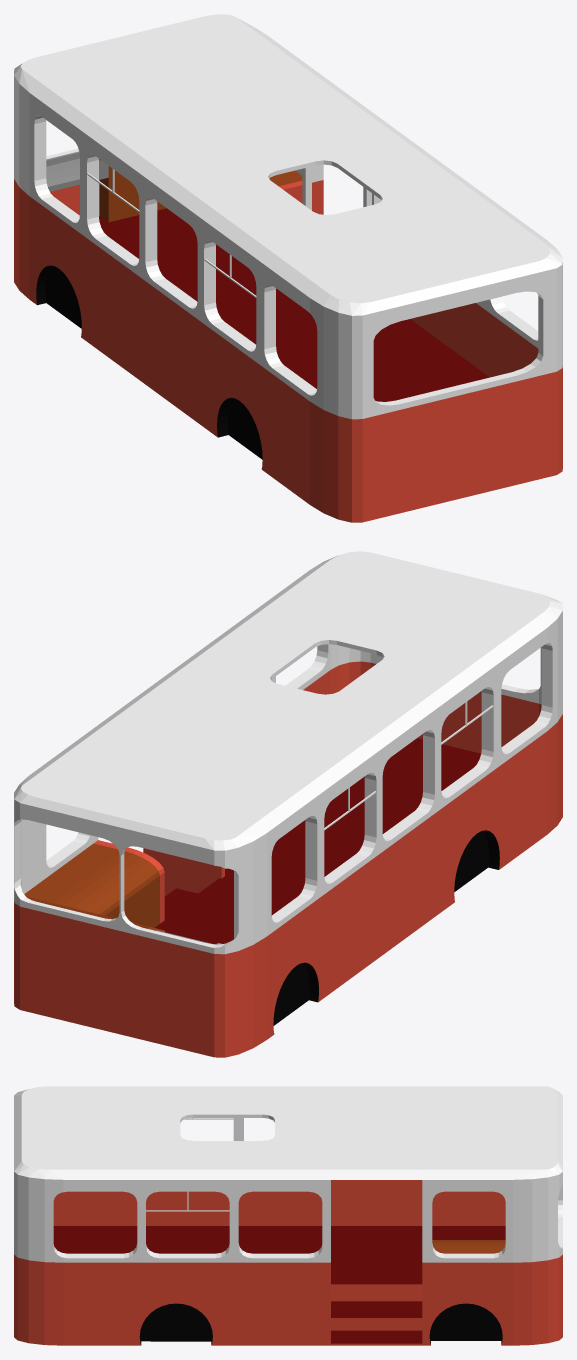
The model's file is bussssss.fbx.
The picture shows the model from 3 angles, top to bottom: view 1: azimuth 30°, elevation 25°; view 2: azimuth 150°, elevation 25°; view 3: azimuth 270°, elevation 25°; orthographic projection. The views are drawn at different scales.
Parts seen in each view (by area): view 1: Куб; view 2: Куб; view 3: Куб.
Boxes of the visible parts, x1,y1,x2,y2 form: Куб: [14, 14, 562, 522]; Куб: [14, 551, 562, 1057]; Куб: [14, 1086, 562, 1345].
Bounding box in the file's own units: 600 × 516 × 1500.
